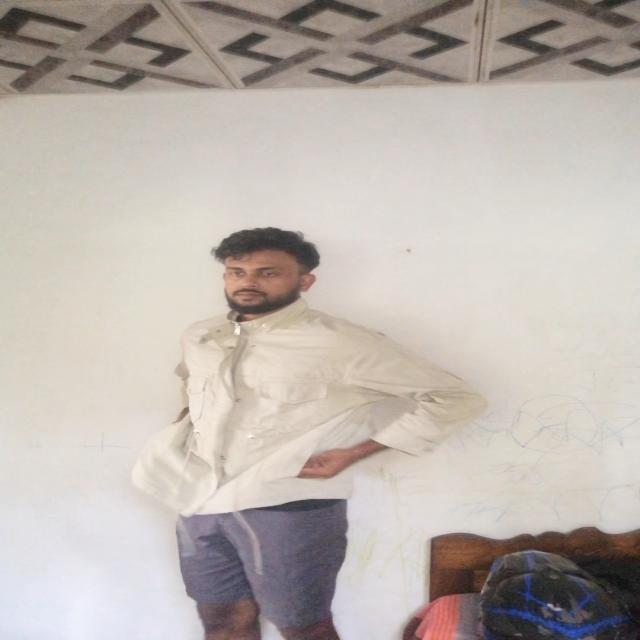Jacket_Wearer: (123, 300, 495, 513)
Person: (160, 222, 415, 640)
